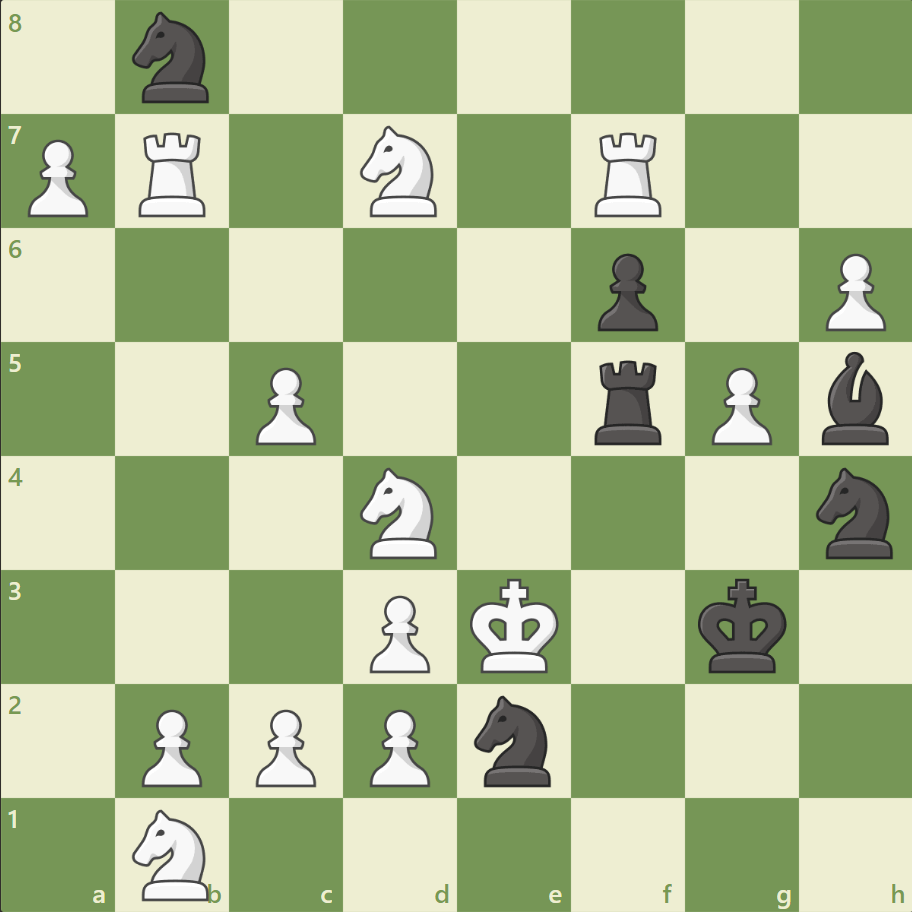K: (465, 571, 565, 679)
N: (351, 461, 449, 564), (351, 121, 449, 223), (124, 802, 222, 904)
P: (20, 132, 95, 223), (247, 359, 322, 450), (701, 359, 776, 450), (133, 700, 208, 791), (247, 700, 322, 791), (815, 246, 889, 337), (361, 586, 435, 677), (361, 700, 435, 791)
R: (587, 125, 670, 222), (133, 125, 215, 222)
b: (812, 347, 896, 449)
k: (692, 571, 792, 679)
n: (124, 7, 222, 110), (806, 461, 903, 564), (465, 688, 562, 791)
p: (588, 246, 662, 337)
r: (587, 352, 670, 449)
